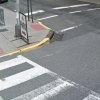Crosswalk: (2, 52, 69, 100)
